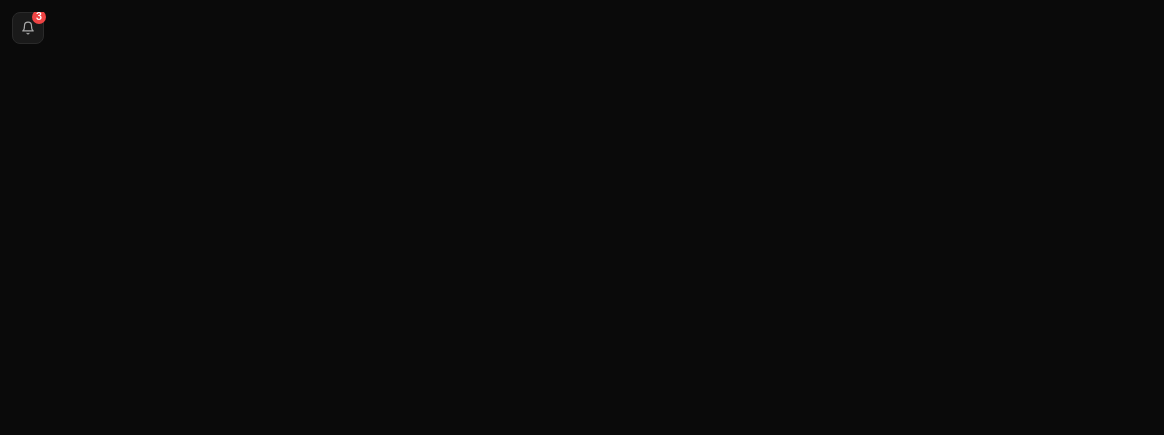
Test: NotificationBell › renders different icons per kind (smoke check)
What coordinates should you click on to do the following:
click the button named "Centro notifiche"
I would click on:
 (28, 28)
Its box is [12,12,44,44].
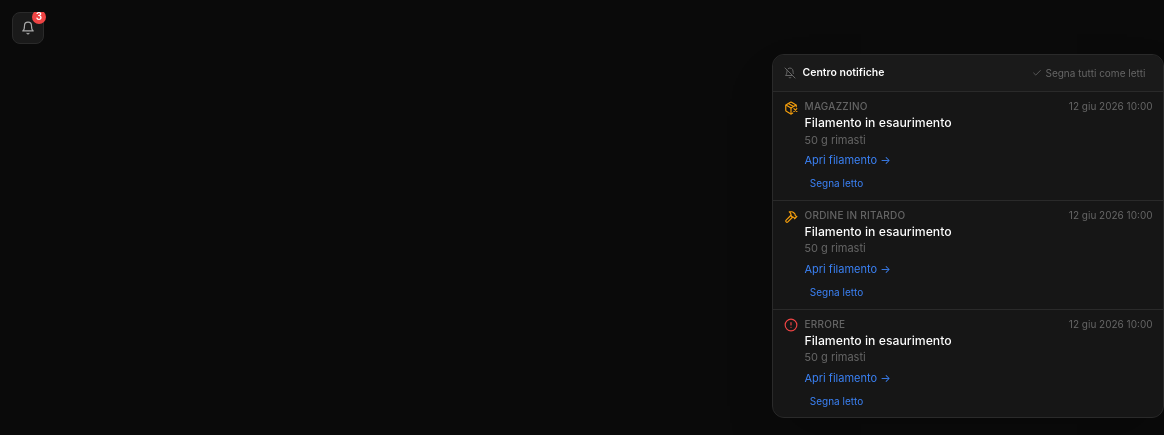
expect the text "Magazzino" is shown: met, box [804,99,868,114]
expect the text "Ordine in ritardo" is shown: met, box [804,208,905,223]
expect the text "Errore" is shown: met, box [804,316,845,332]
